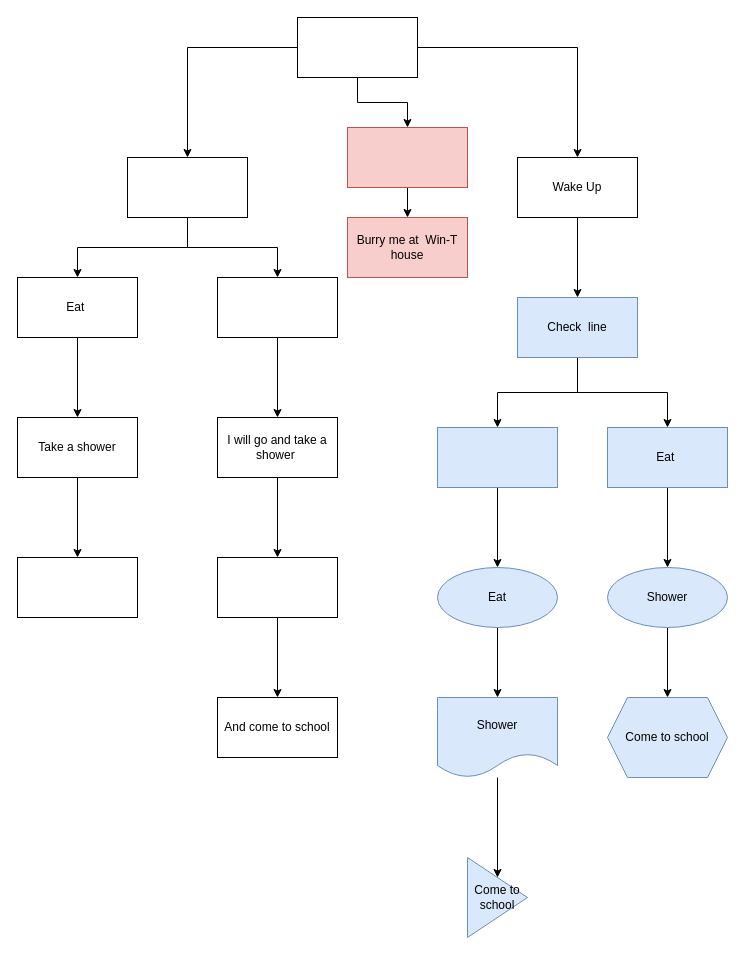
The diagram is 745 pixels wide and 955 high, and some of its shapes have lost their labels. The shapes that lost their labels are listed below. From the top down, each one's centre as x and y in pixels, then its label:
At (357,47): "Start".
At (407,157): "If I die".
At (187,187): "If wake Up late".
At (277,307): "If the food don't come yet".
At (497,457): "If no internet".
At (77,587): "BTS to school".
At (277,587): "And then eat".
